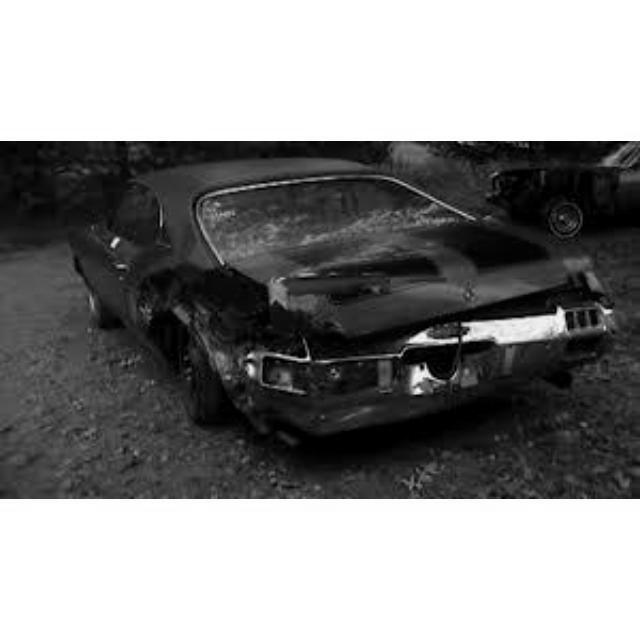Rear-windscreen-Damage: (201, 178, 467, 252)
rear-bumper-dent: (287, 325, 538, 410)
